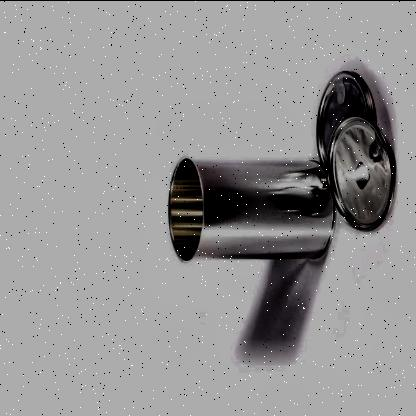Can: (166, 157, 332, 266), (325, 110, 397, 232), (314, 68, 376, 174)
